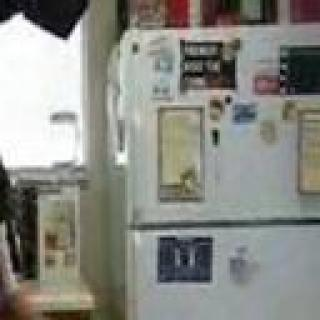fire: (0, 66, 4, 320)
